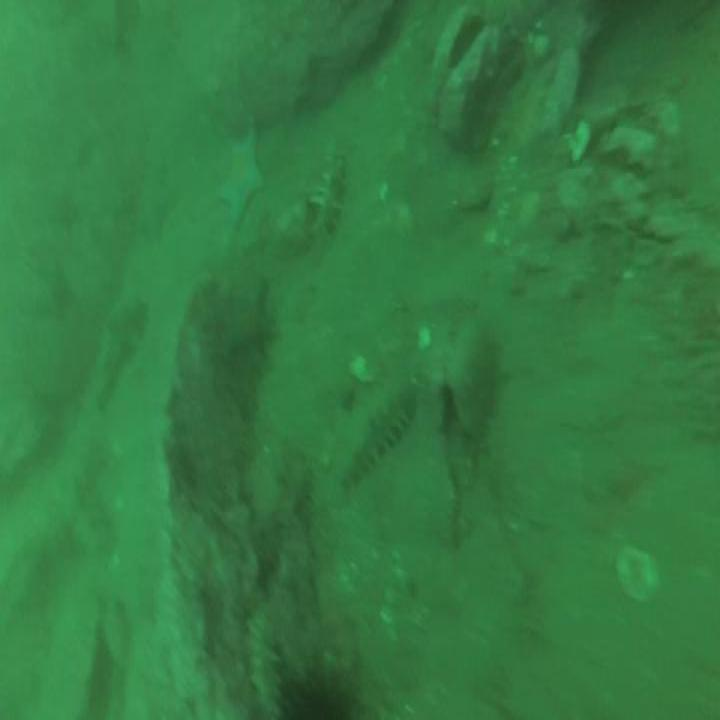holothurian: (337, 380, 413, 485), (97, 298, 146, 404), (246, 608, 281, 720), (310, 156, 343, 242)
scallop: (348, 354, 366, 380), (418, 324, 430, 354)
starfish: (217, 132, 263, 224)
